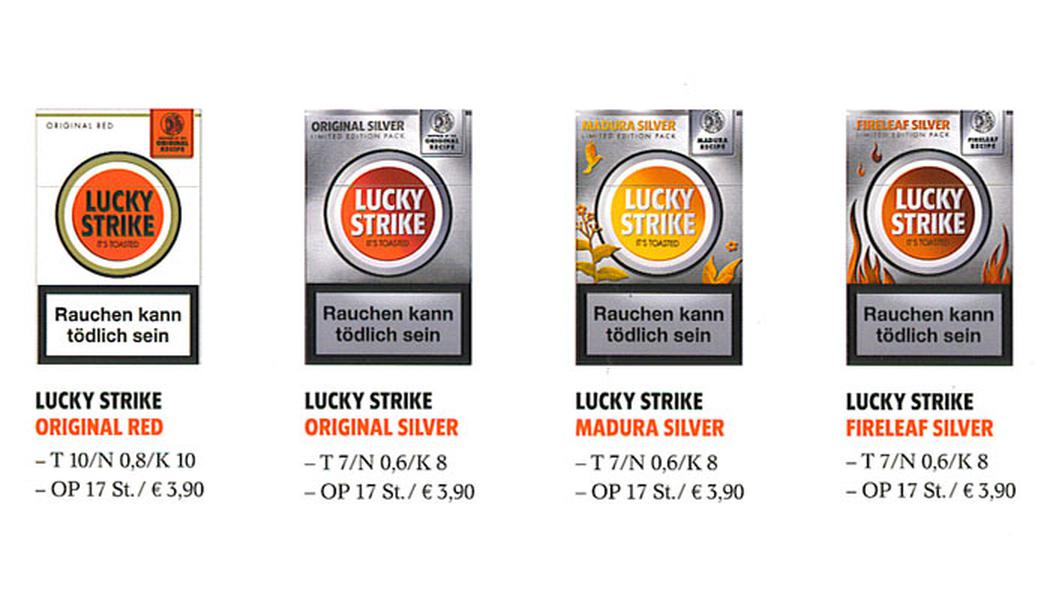lucky_strike_red: (33, 110, 197, 366)
